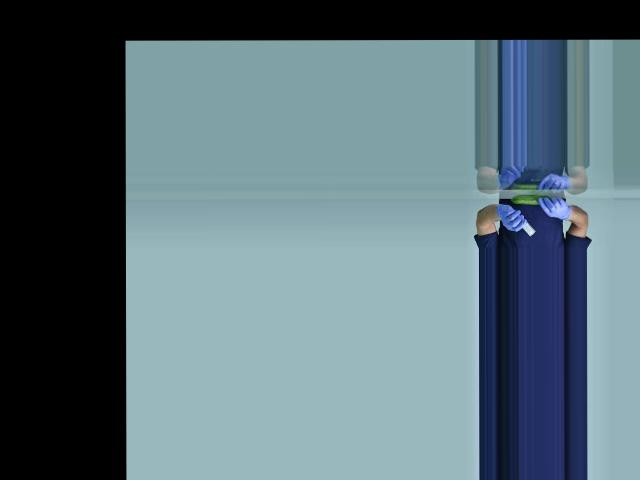cucumber: (510, 194, 550, 204)
